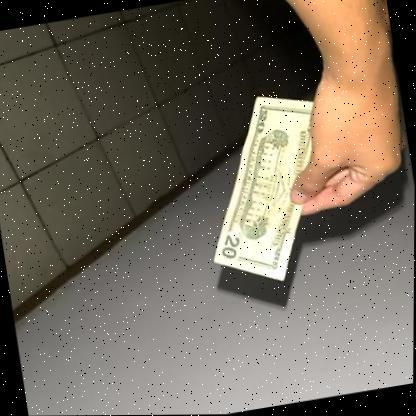dollar_back: (188, 84, 340, 294)
